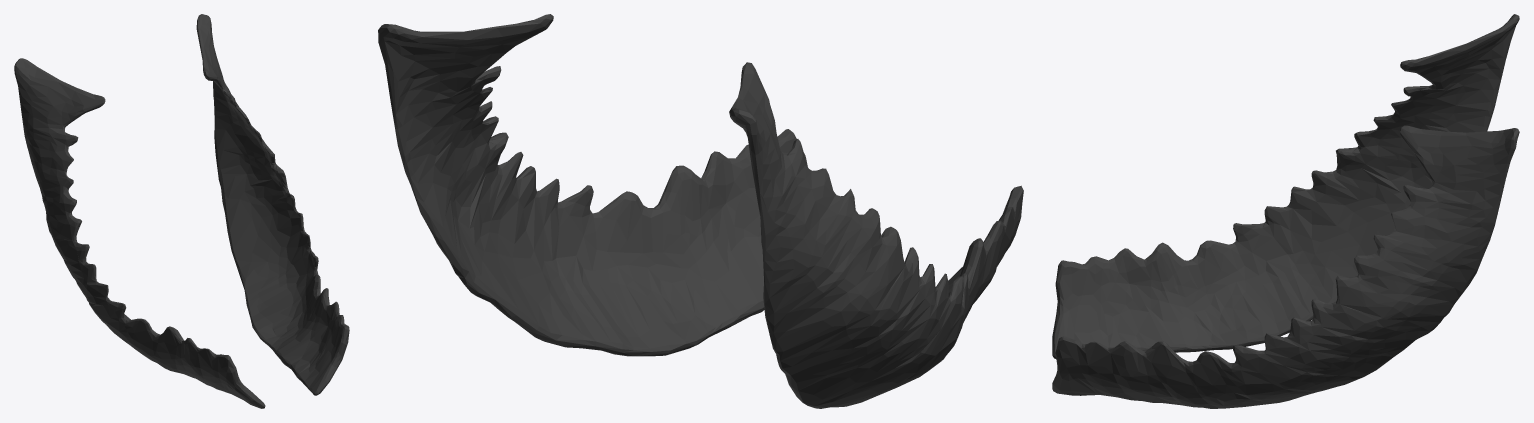
Rendered from m_external_abdominal_oblique.glb.
3 renders of one model, left to right at view 1: azimuth 30°, elevation 25°; view 2: azimuth 150°, elevation 25°; view 3: azimuth 270°, elevation 25°, orthographic. The views are drawn at different scales.
Parts seen in each view (by area): view 1: m_external_abdominal_oblique; view 2: m_external_abdominal_oblique; view 3: m_external_abdominal_oblique.
Part boxes in pixels (x1=…): m_external_abdominal_oblique: x1=14, y1=14, x2=349, y2=408; m_external_abdominal_oblique: x1=378, y1=14, x2=1023, y2=408; m_external_abdominal_oblique: x1=1052, y1=14, x2=1519, y2=408.
Size of the model in its own units: 0.00838 by 0.00864 by 0.012.
Materials: 1 (1 with a texture image).
